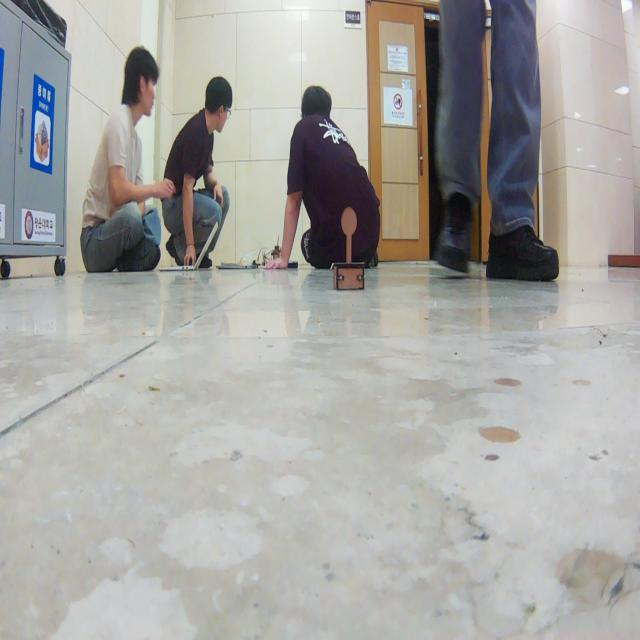target: (332, 207, 367, 291)
